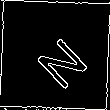N_NW: (23, 22, 87, 88)
